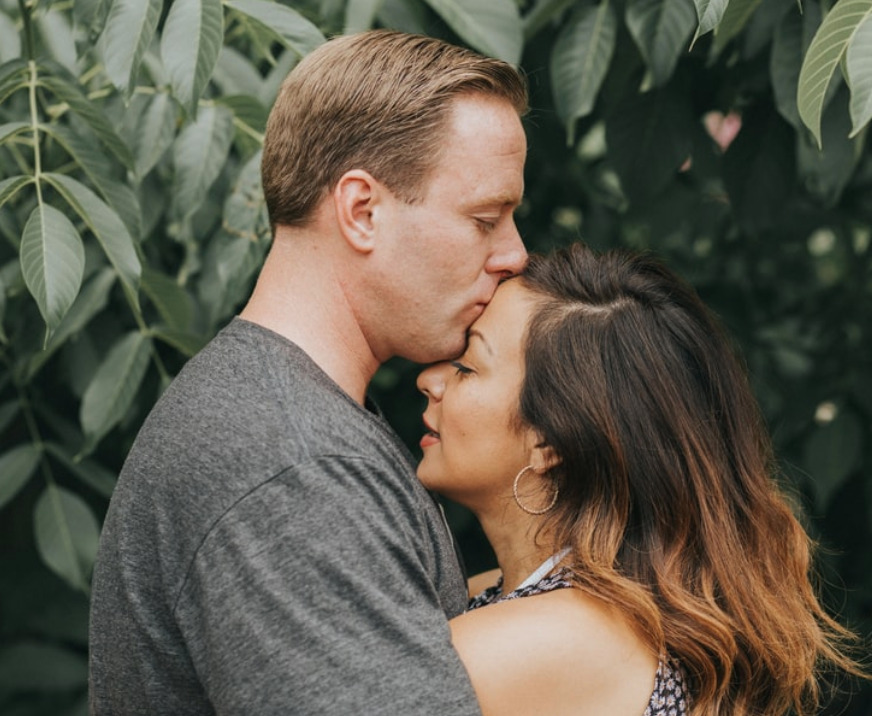Bad: (88, 31, 867, 716)
